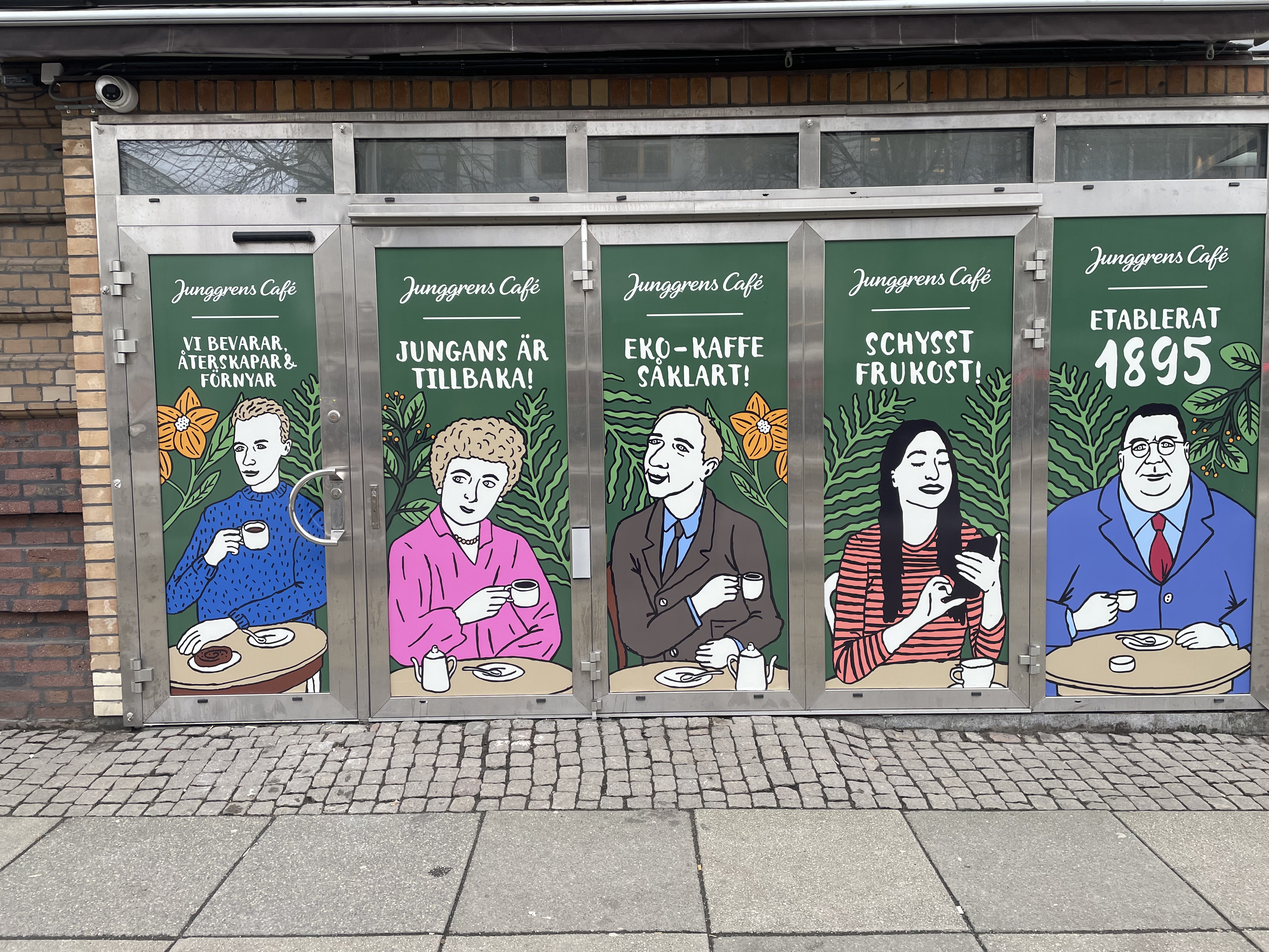advertisement: (1045, 210, 1265, 697), (375, 246, 573, 698), (824, 236, 1015, 689), (599, 242, 790, 694), (148, 254, 332, 696)
